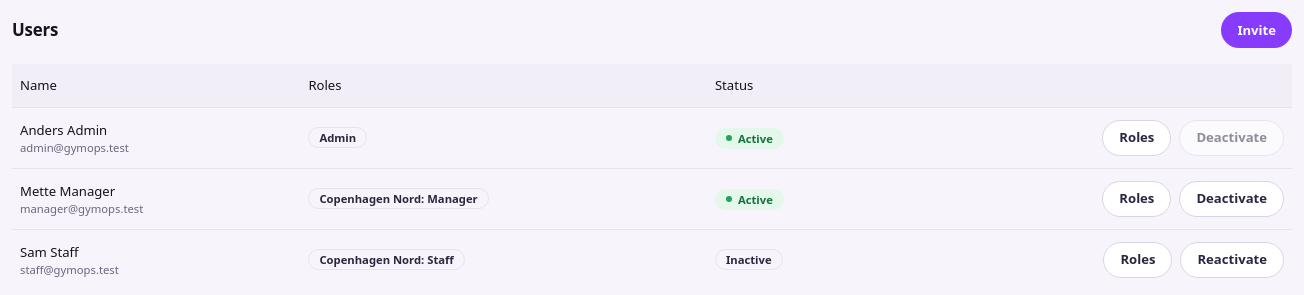
Test: UsersPanel › will not let you deactivate yourself, and says why
The image size is (1304, 295).
Hover over the element showing "Deactivate" at (1232, 138), box x1=1179 y1=120 x2=1284 y2=156
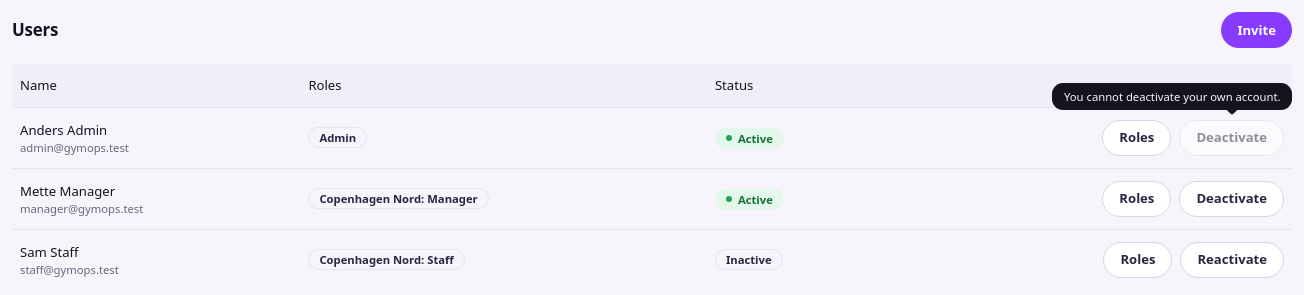
Now the tooltip reads "You cannot deactivate your own account.", box x1=1064 y1=89 x2=1280 y2=104
